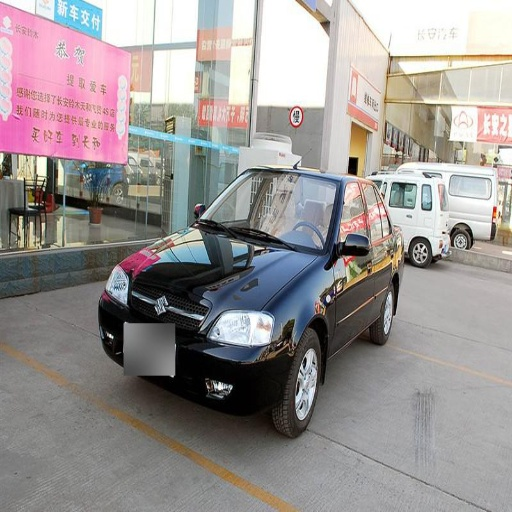front_bumper: (100, 274, 286, 411)
front_glass: (198, 169, 338, 253)
front_left_door: (335, 197, 371, 339)
trunk: (384, 204, 418, 267)
